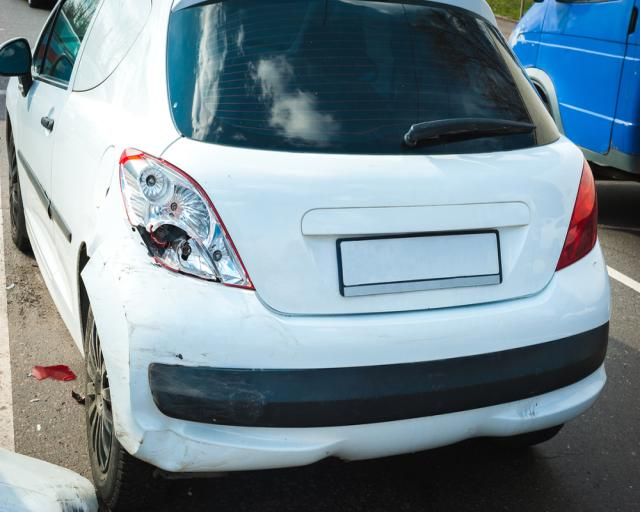lamp broken: (117, 147, 256, 291)
scratch: (123, 311, 201, 365)
